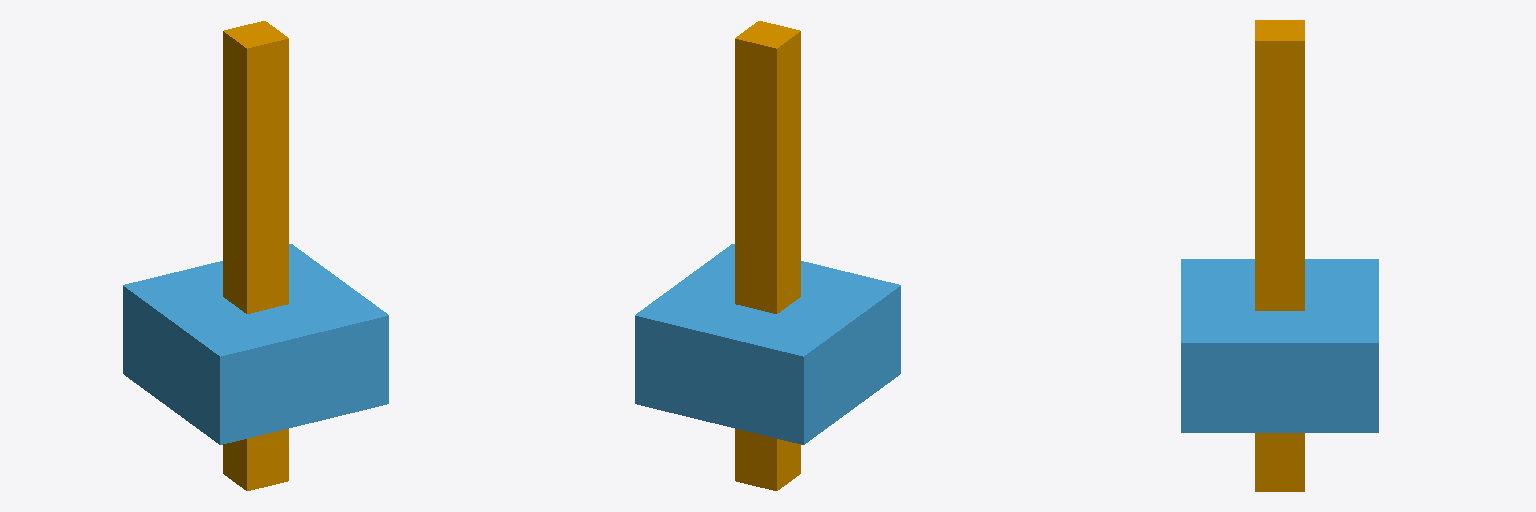
The robot description file, URDF, robot "my_subsystem":
<?xml version="1.0" ?>
<robot name="my_subsystem">
  <link name="arm">
    <visual>
      <geometry>
        <mesh filename="../examples/simple_arm/meshes/arm.obj"/>
      </geometry>
    </visual>
    <collision>
      <geometry>
        <mesh filename="../examples/simple_arm/meshes/arm.obj"/>
      </geometry>
    </collision>
    <inertial>
      <origin xyz="0.0 0.0 0.0" rpy="0 0 0"/>
      <mass value="1.0"/>
      <inertia ixx="0.01" ixy="0.0" ixz="0.0" iyy="0.01" iyz="0.0" izz="0.01"/>
    </inertial>
  </link>
  <link name="base">
    <visual>
      <geometry>
        <mesh filename="../examples/simple_arm/meshes/base.obj"/>
      </geometry>
    </visual>
    <collision>
      <geometry>
        <mesh filename="../examples/simple_arm/meshes/base.obj"/>
      </geometry>
    </collision>
    <inertial>
      <origin xyz="0.0 0.0 0.0" rpy="0 0 0"/>
      <mass value="1.0"/>
      <inertia ixx="0.01" ixy="0.0" ixz="0.0" iyy="0.01" iyz="0.0" izz="0.01"/>
    </inertial>
  </link>
  <joint name="joint_1" type="revolute">
    <parent link="arm"/>
    <child link="base"/>
    <origin xyz="0.0 0.0 0.1" rpy="0 0 0"/>
    <axis xyz="0.0 0.0 1.0"/>
    <limit lower="-1000000.0" upper="1000000.0" velocity="1000.0" effort="100.0"/>
  </joint>
</robot>

--- Render facts (derived) ---
Views: 3 orthographic renders of the robot side by side, from view 1: azimuth 30°, elevation 25°; view 2: azimuth 150°, elevation 25°; view 3: azimuth 270°, elevation 25°.
Model my_subsystem with 2 links and 1 joints (1 revolute), rooted at arm, posed every joint at zero.
Links seen in each view (by area): view 1: base, arm; view 2: base, arm; view 3: base, arm.
Link boxes in pixels (left/top/right/bottom): base: left=123, top=244, right=388, bottom=444; arm: left=223, top=21, right=288, bottom=490; base: left=635, top=244, right=900, bottom=444; arm: left=735, top=21, right=800, bottom=490; base: left=1181, top=259, right=1378, bottom=432; arm: left=1255, top=20, right=1304, bottom=491.
Bounding box of the posed robot: 0.2 × 0.2 × 0.5 m (x, y, z).
Meshes: 2 distinct files referenced, 2 mesh visuals loaded (2 OBJ).